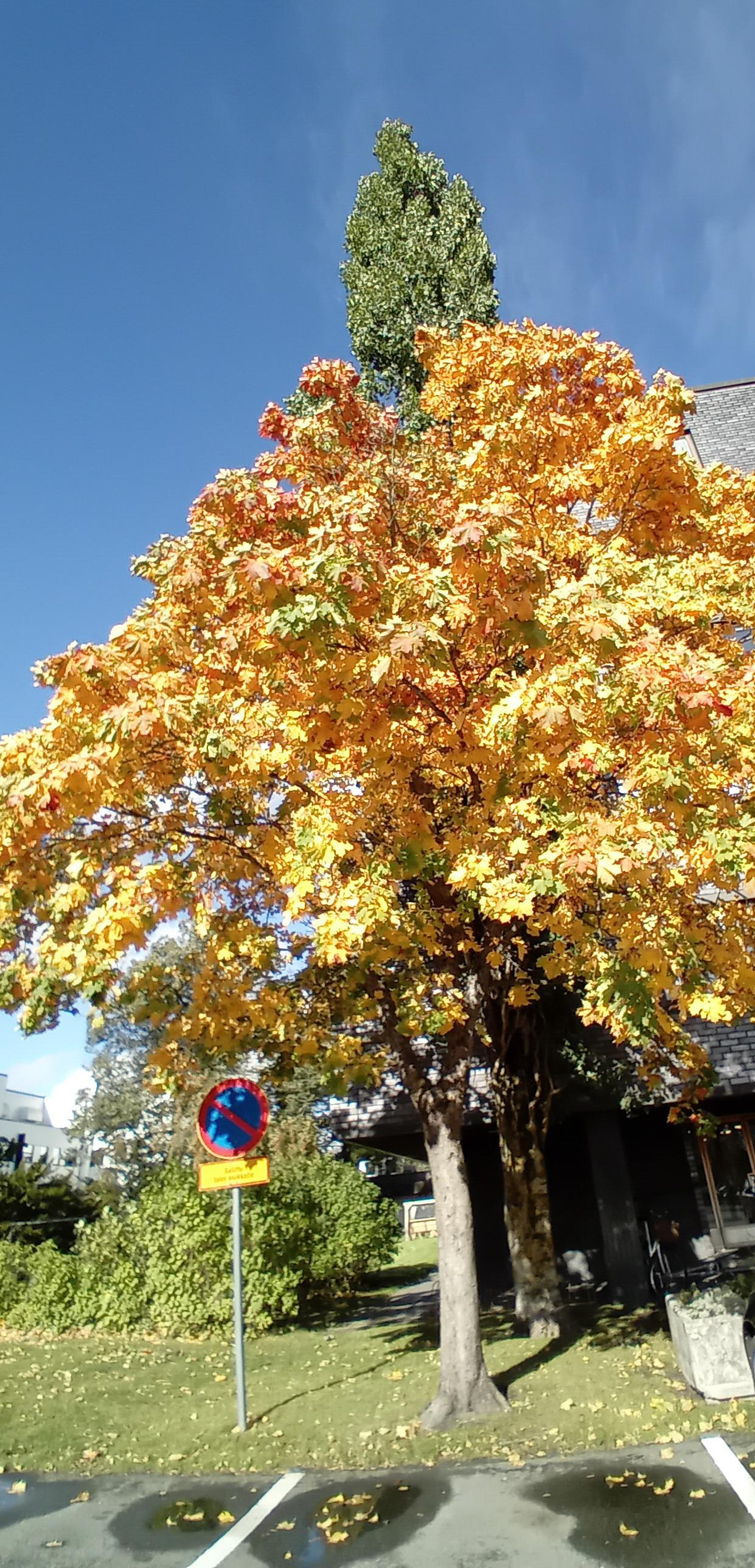Maple: (285, 382, 755, 1423), (10, 415, 755, 1054)
